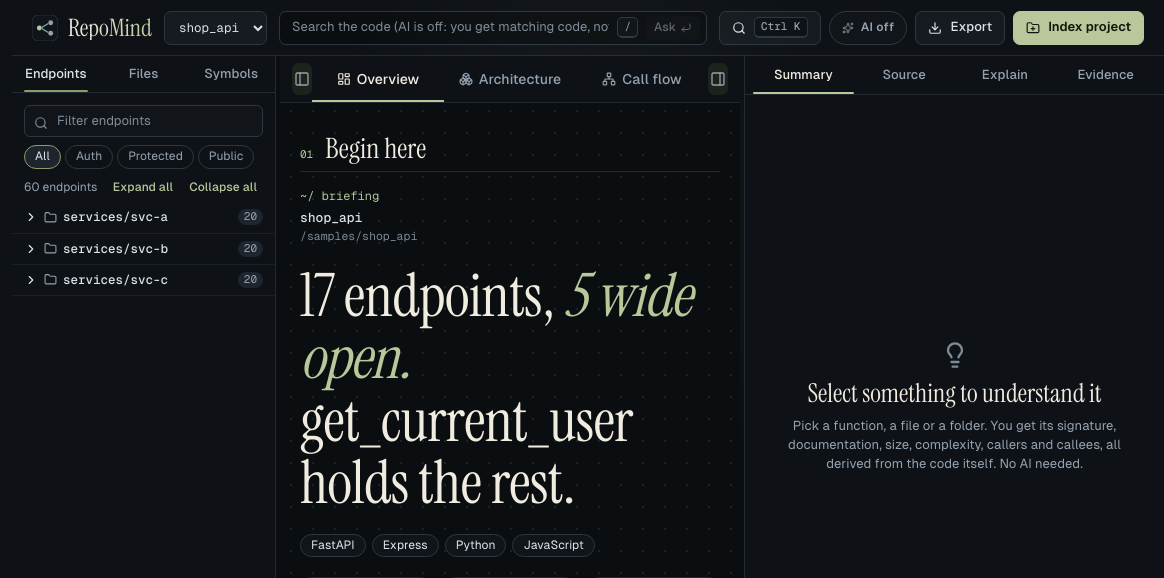
Test: Collapsible endpoints › starts collapsed on a large repo and expands level by level
The image size is (1164, 578).
Check: the text "60 endpoints" is shown, box [24,179,98,196]
Step 1. Click the button "services/svc-a 20" → click(144, 217), box [12,202,275,232]
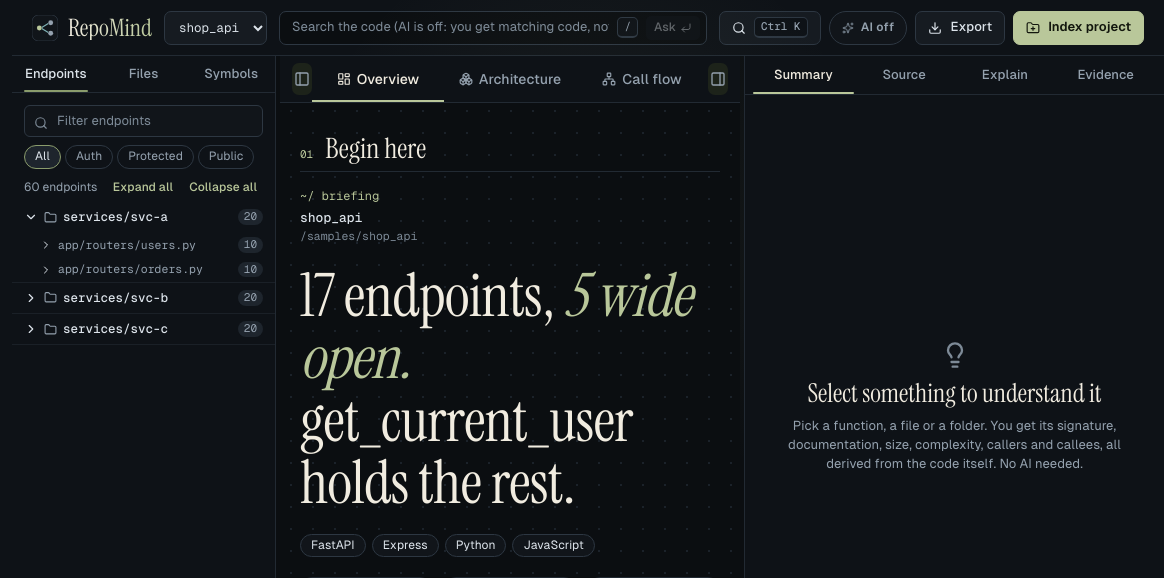
Step 2. Click the button "app/routers/users.py 10" → click(144, 245), box [12,232,275,257]
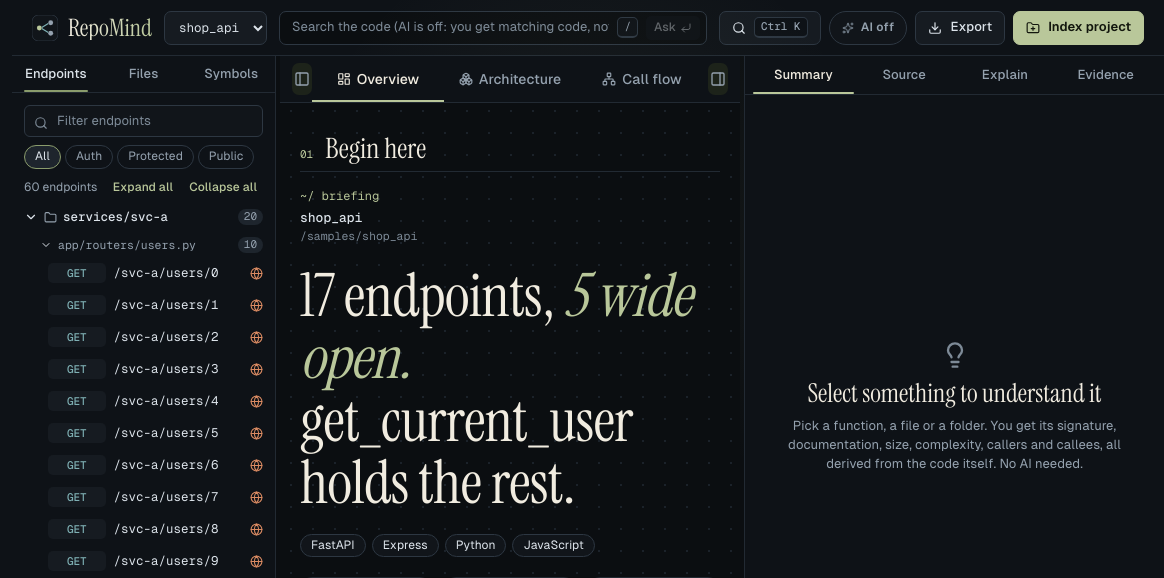
Check: the text "/svc-a/users/0" is shown, box [114,264,219,281]
